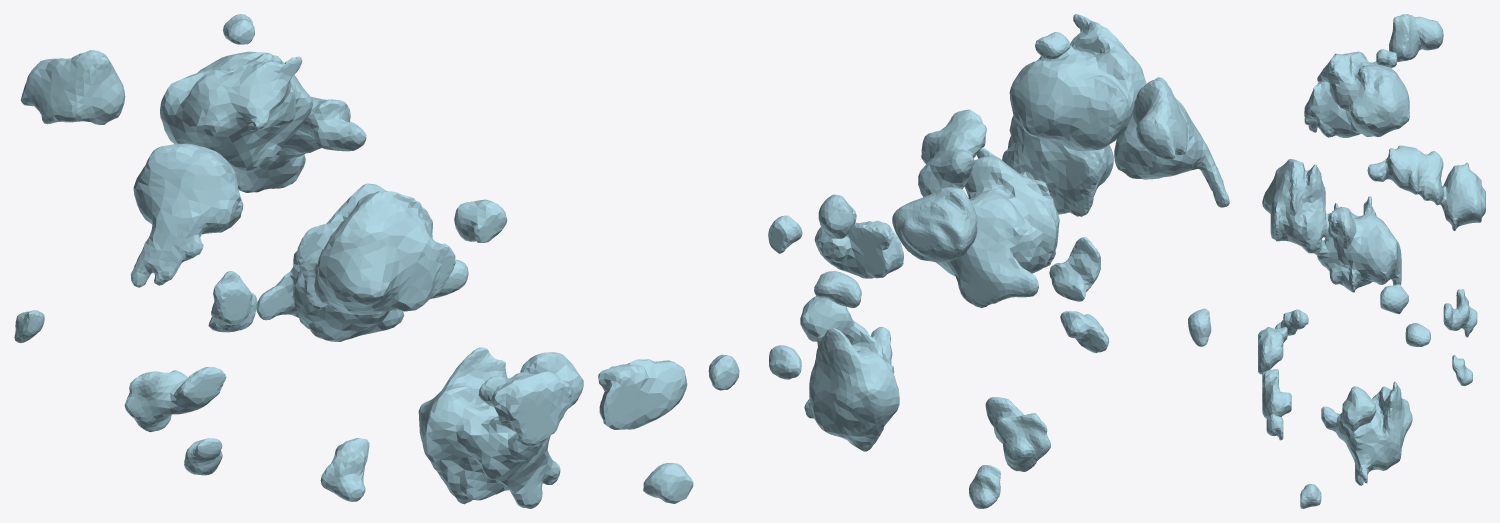
Rendered from livertumor.obj.
3 renders of one model, left to right at view 1: azimuth 30°, elevation 25°; view 2: azimuth 150°, elevation 25°; view 3: azimuth 270°, elevation 25°, orthographic. The views are drawn at different scales.
Visible parts, largest first — view 1: grp1; view 2: grp1; view 3: grp1.
Part boxes in pixels (x1,y1,x2,y2): grp1: (14,14,739,508); grp1: (768,14,1229,508); grp1: (1258,14,1485,508).
Size of the model in its own units: 173 by 146 by 86.4.
